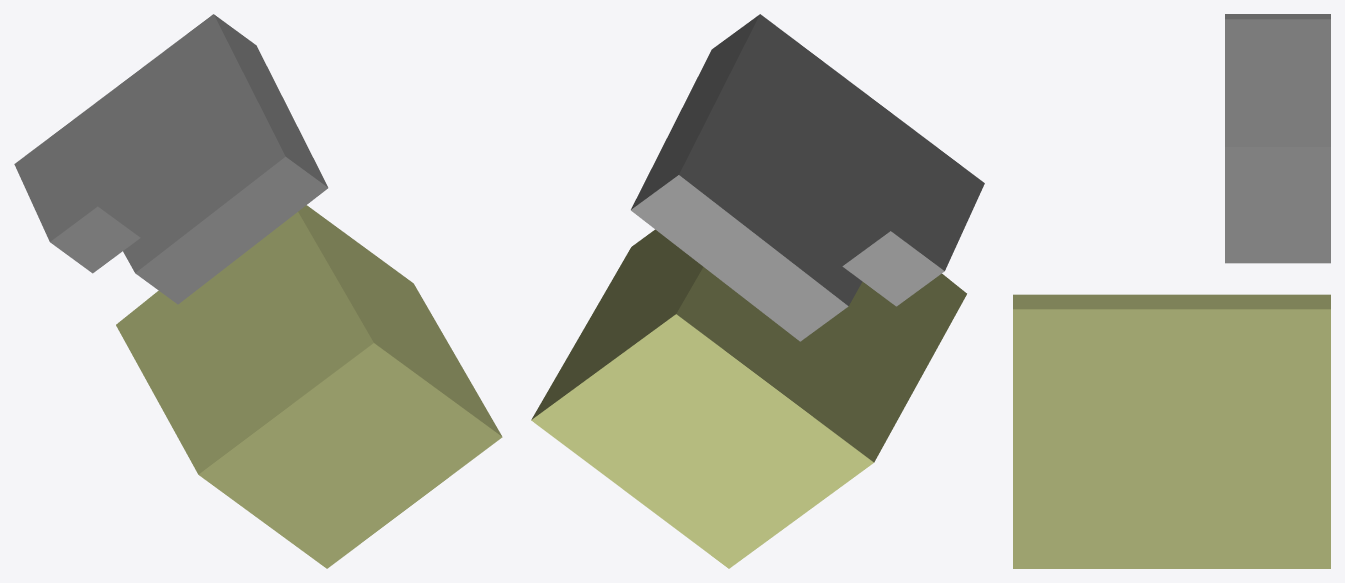
3 views of the same model, side by side, from view 1: azimuth 30°, elevation 25°; view 2: azimuth 150°, elevation 25°; view 3: azimuth 270°, elevation 25° (orthographic). The views are drawn at different scales.
Visible parts, largest first — view 1: 0_1_0_0_0_1_2_1_2_2; view 2: 0_1_0_0_0_1_2_1_2_2; view 3: 0_1_0_0_0_1_2_1_2_2.
Part boxes in pixels (x1=…): 0_1_0_0_0_1_2_1_2_2: x1=14, y1=14, x2=502, y2=568; 0_1_0_0_0_1_2_1_2_2: x1=531, y1=14, x2=984, y2=568; 0_1_0_0_0_1_2_1_2_2: x1=1013, y1=14, x2=1330, y2=568.
Bounding box in the file's own units: 14.52 × 17.63 × 9.
